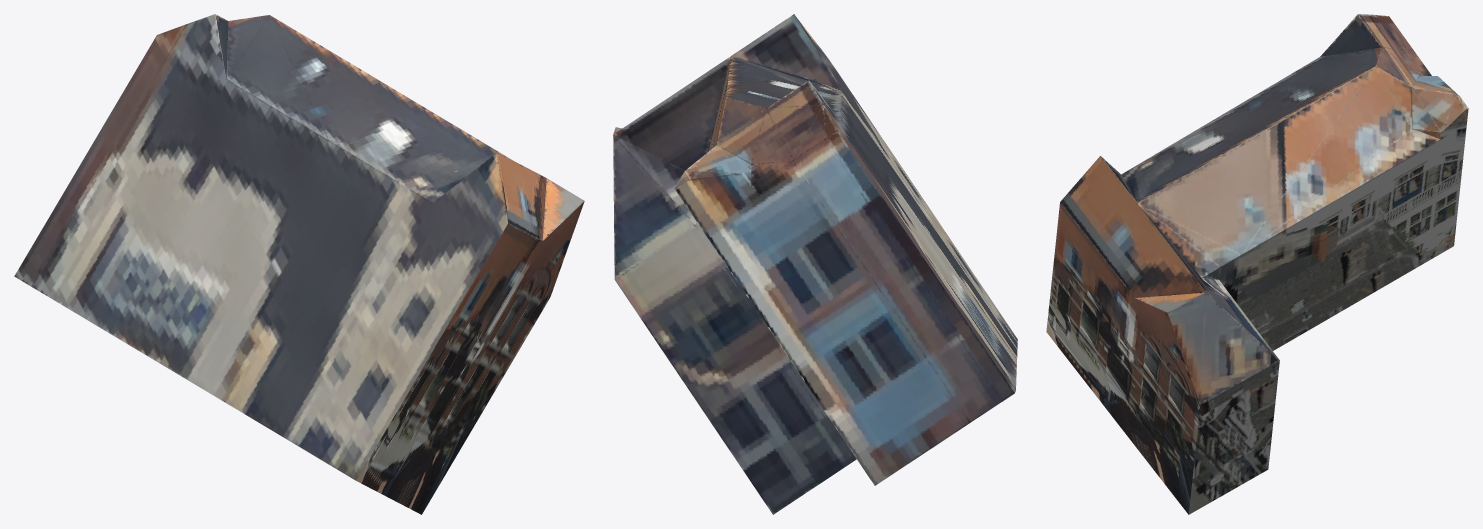
3 renders of one model, left to right at view 1: azimuth 30°, elevation 25°; view 2: azimuth 150°, elevation 25°; view 3: azimuth 270°, elevation 25°, orthographic. The views are drawn at different scales.
Visible parts, largest first — view 1: BAG_0599100000187001 (×5); view 2: BAG_0599100000187001 (×7); view 3: BAG_0599100000187001 (×6).
Boxes of the visible parts, <box> form: BAG_0599100000187001 (×5): <box>14,14,584,514</box>; BAG_0599100000187001 (×7): <box>613,14,1017,514</box>; BAG_0599100000187001 (×6): <box>1046,14,1468,514</box>.
Size of the model in its own units: 22.64 by 21.81 by 18.73.
Materials: 1 (1 with a texture image).
